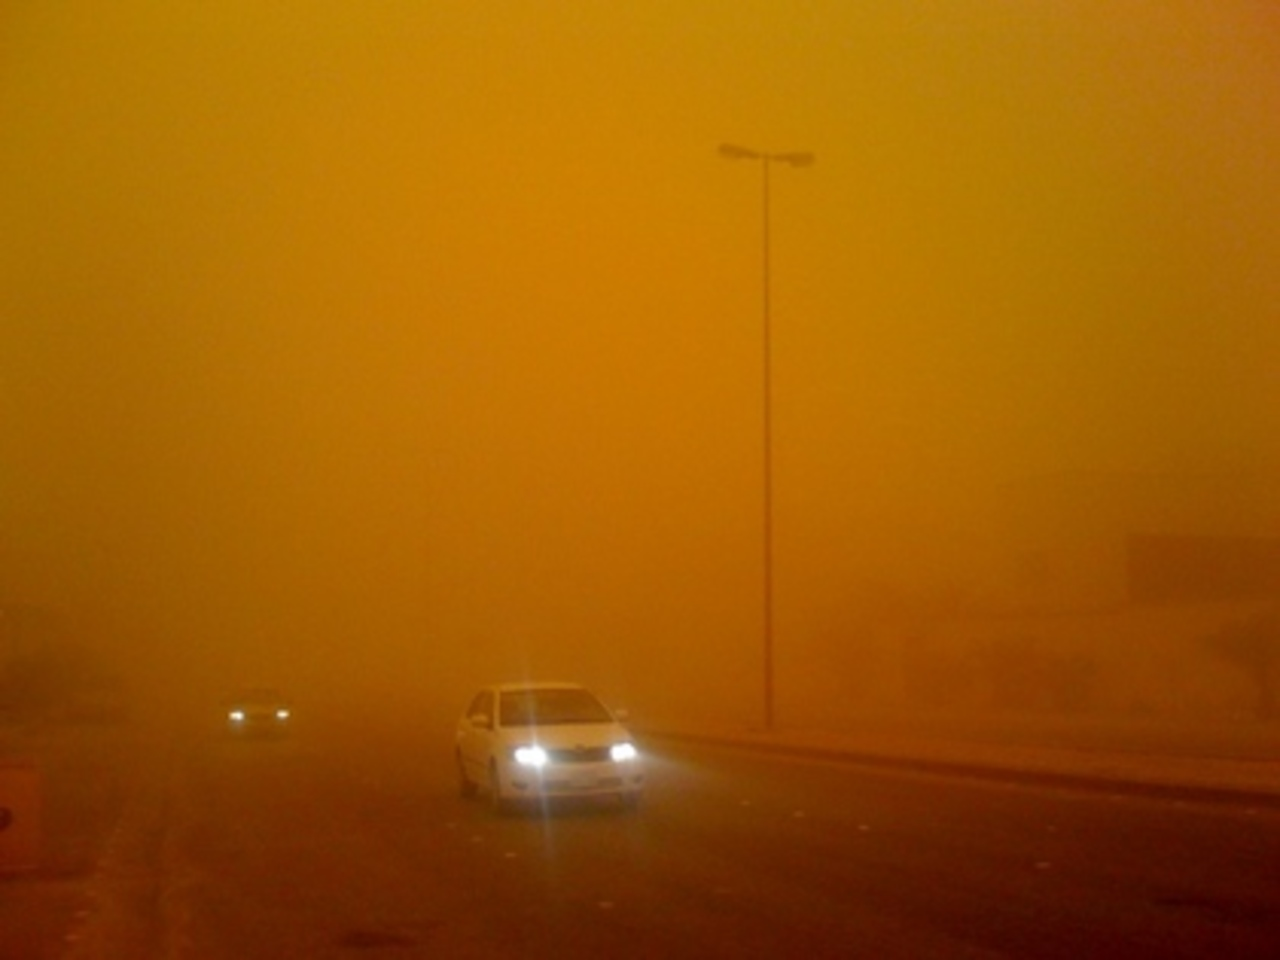car: (456, 681, 644, 820), (220, 686, 293, 738)
